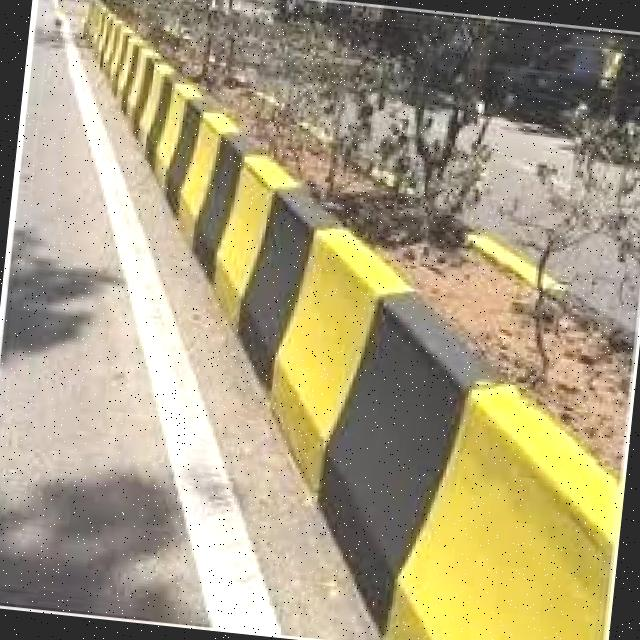curb: (334, 396, 622, 640), (240, 289, 485, 515), (186, 111, 298, 342), (129, 40, 205, 210), (82, 1, 137, 81)
